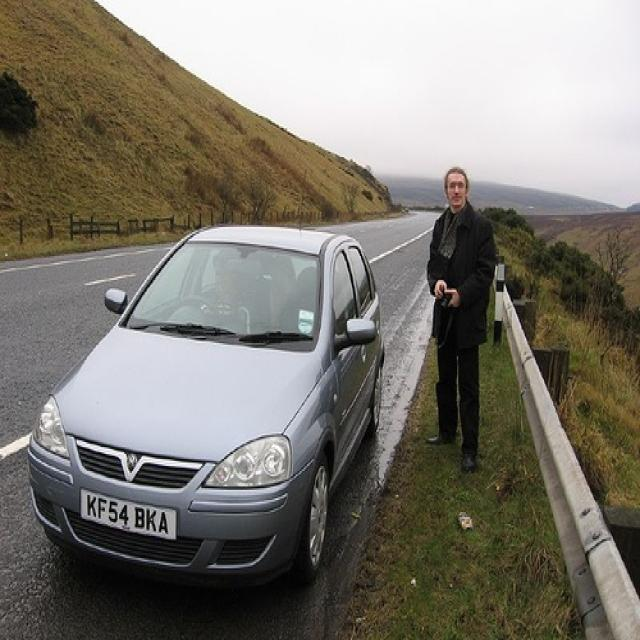car: (26, 222, 387, 585)
